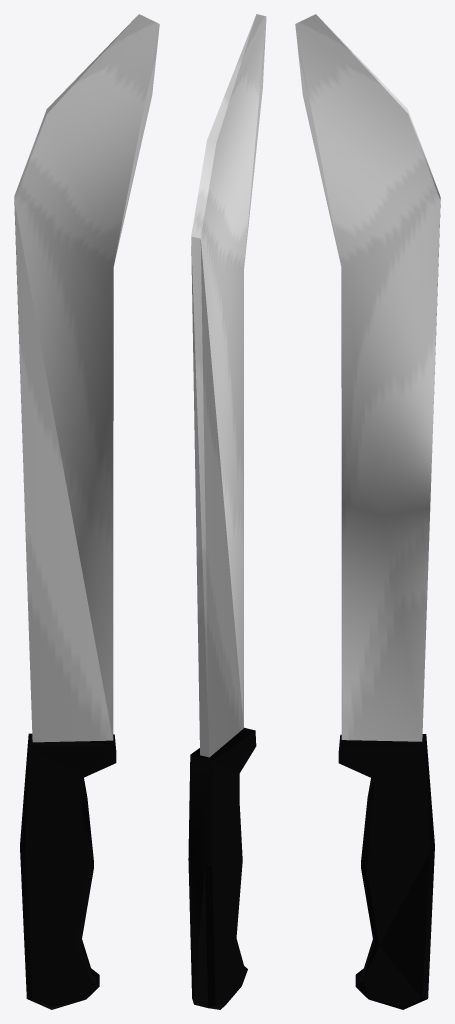
The model's file is CurvedMachete.fbx.
3 views of the same model, side by side, from view 1: azimuth 90°, elevation 25°; view 2: azimuth 150°, elevation 25°; view 3: azimuth 270°, elevation 25° (orthographic). The views are drawn at different scales.
Parts seen in each view (by area): view 1: node_7e5508e0_8d73_491f_b8bc_6a0a62185379_mesh0; view 2: node_7e5508e0_8d73_491f_b8bc_6a0a62185379_mesh0; view 3: node_7e5508e0_8d73_491f_b8bc_6a0a62185379_mesh0.
Part boxes in pixels (x1=…): node_7e5508e0_8d73_491f_b8bc_6a0a62185379_mesh0: x1=14, y1=14, x2=159, y2=1009; node_7e5508e0_8d73_491f_b8bc_6a0a62185379_mesh0: x1=188, y1=14, x2=266, y2=1009; node_7e5508e0_8d73_491f_b8bc_6a0a62185379_mesh0: x1=295, y1=14, x2=440, y2=1009.
Bounding box in the file's own units: 0.00943 × 0.3695 × 0.0491.
